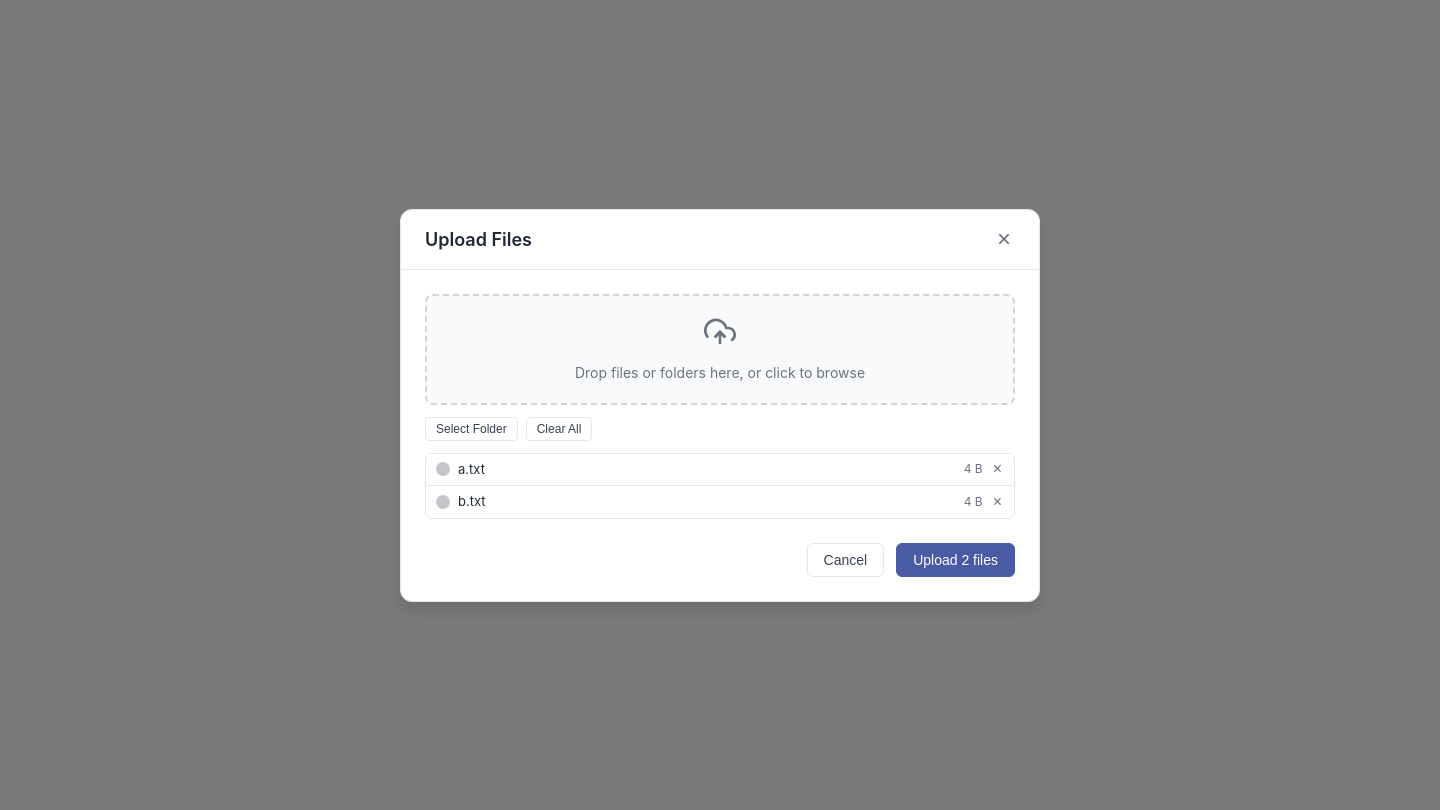
Test: UploadFileModal › keeps file selection behavior: removing files and de-duplicating paths
Earlier steps of the test are not shown.
Expected: the number of elements with class "upload-file-row" is 2, [426,454,1014,486]; [436,493,1004,510]
Click the button titled "Remove" in the row of "a.txt": (997, 469) [991,461,1004,477]
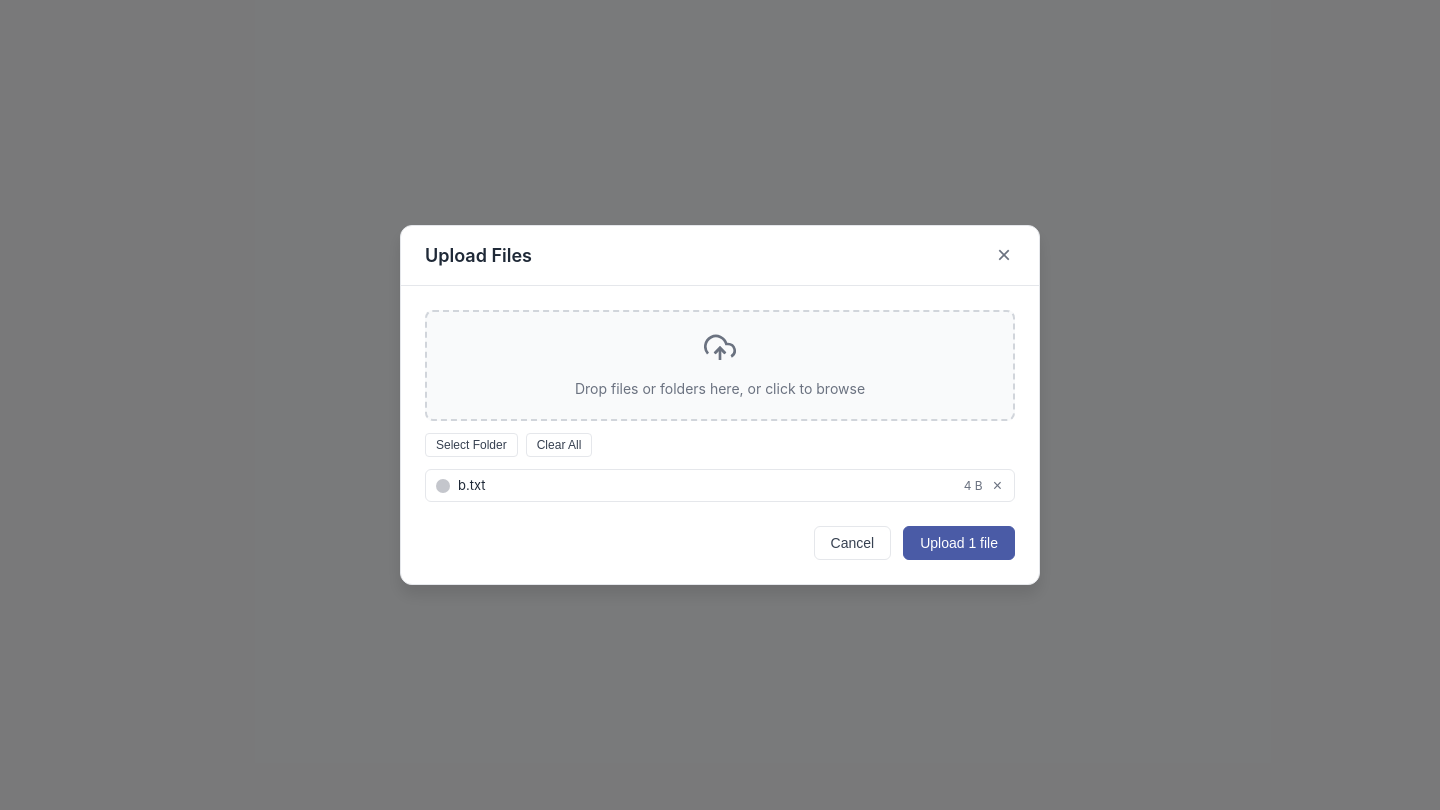
Expected: the element with class "upload-file-row" shows "b.txt", [458,477,486,493]
Now the number of elements with class "upload-file-row" is 1, box [436,477,1004,494]
Click the button "Clear All": (559, 445) [526,433,592,457]
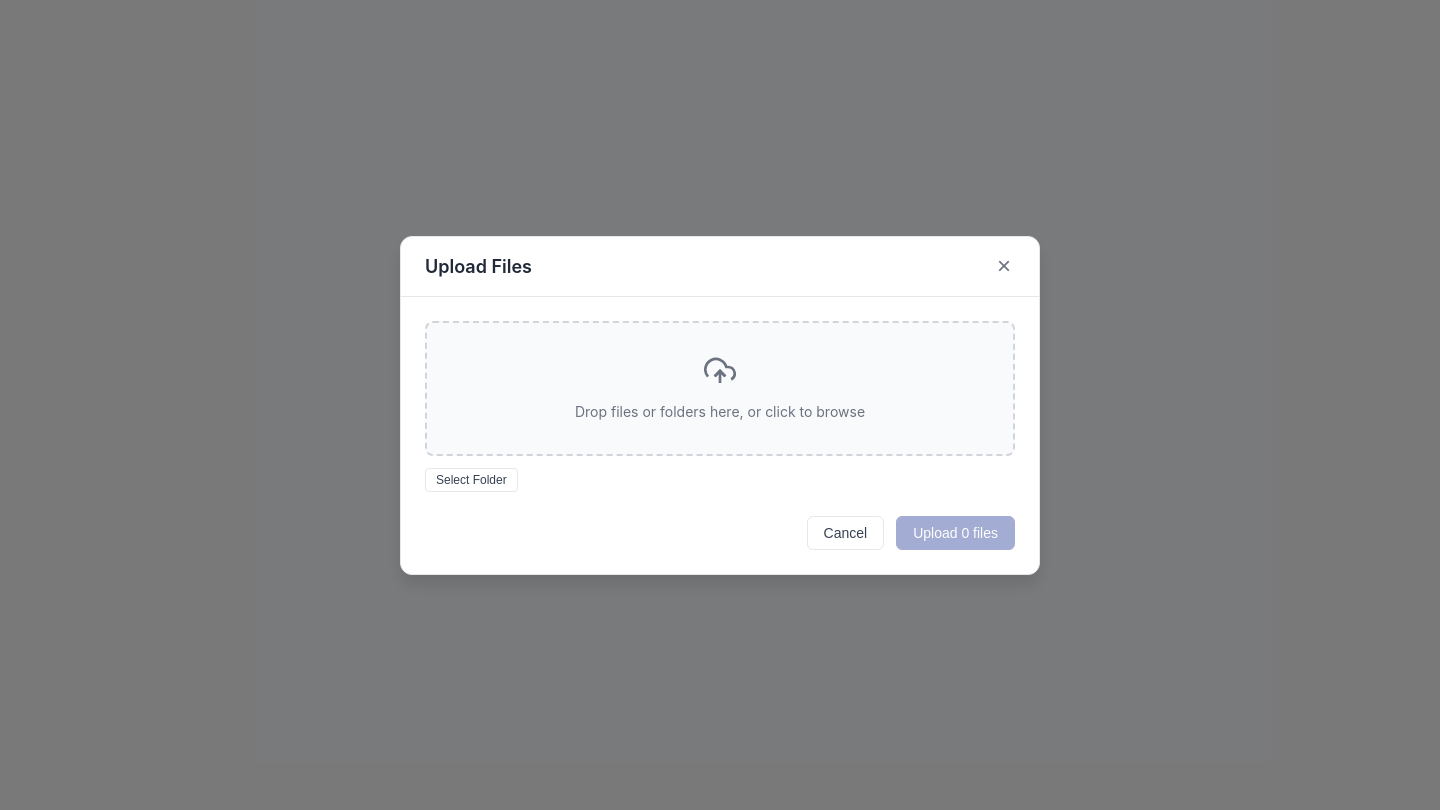
Now no elements with class "upload-file-row" are shown
